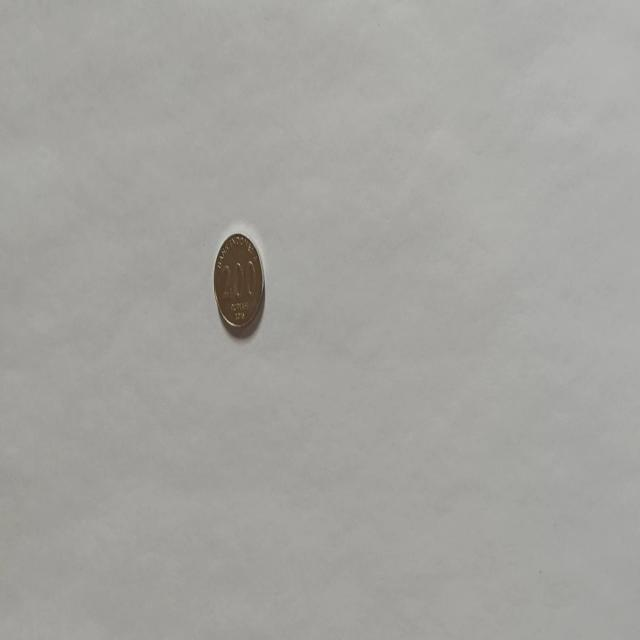dua ratus rupiah: (212, 230, 265, 331)
